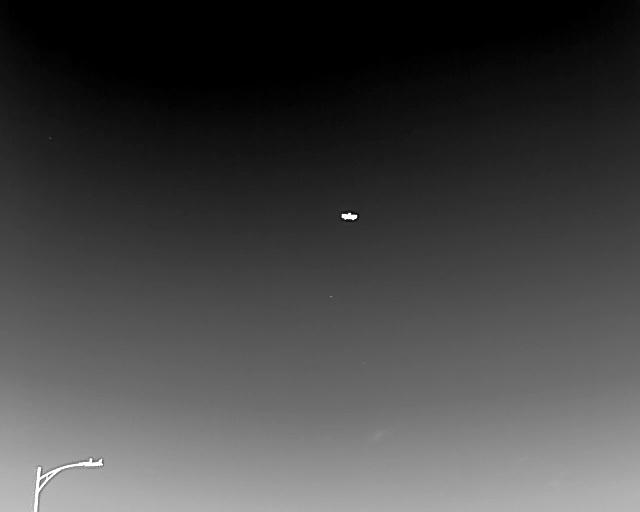fpv-drone: (340, 211, 359, 222)
